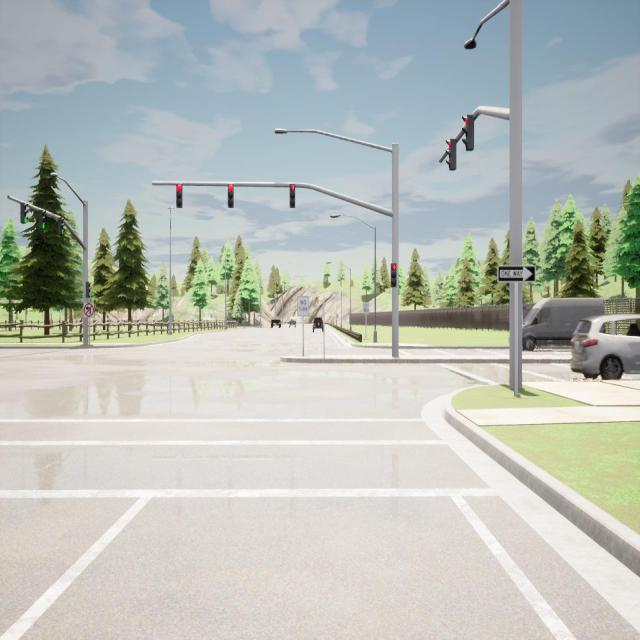Traffic_Signs: (498, 266, 536, 282), (298, 296, 309, 316), (84, 302, 95, 318), (363, 301, 370, 313), (243, 313, 246, 318)
Vehicle: (570, 314, 640, 380), (522, 297, 606, 350), (312, 316, 324, 332), (270, 317, 282, 328), (288, 317, 298, 328)
traffic_light: (460, 114, 474, 152), (445, 139, 457, 171), (390, 263, 397, 287), (21, 202, 28, 224), (38, 210, 46, 229), (176, 183, 182, 208), (290, 183, 295, 208), (228, 183, 233, 207), (58, 218, 65, 235), (85, 282, 92, 298)
